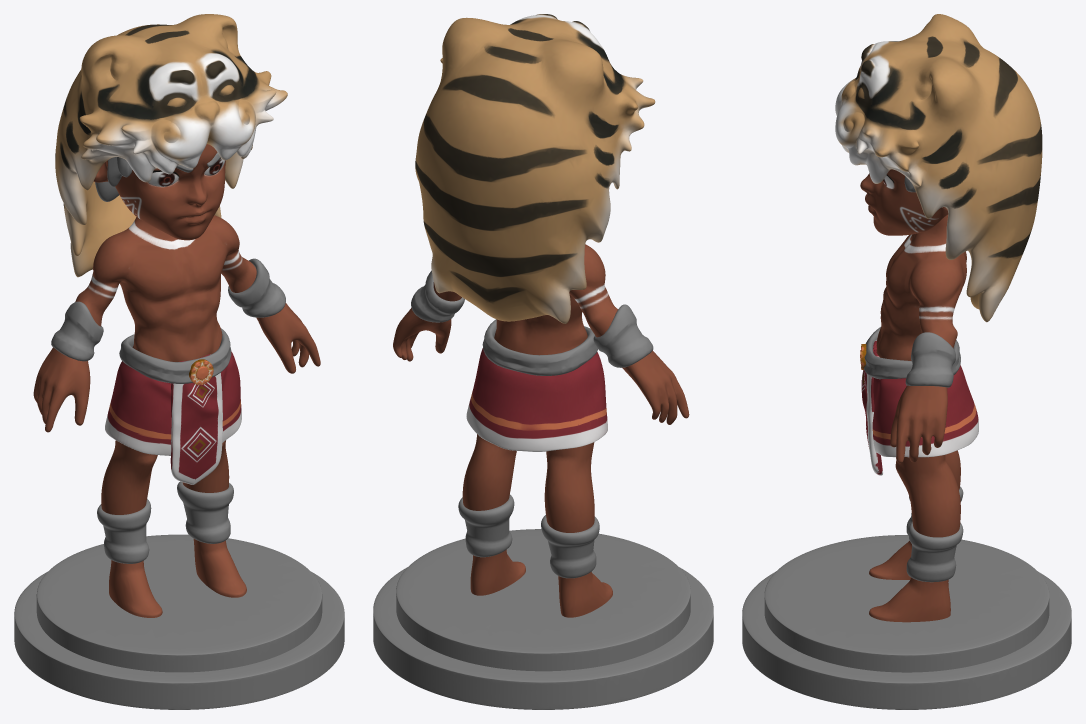
3 renders of one model, left to right at view 1: azimuth 30°, elevation 25°; view 2: azimuth 150°, elevation 25°; view 3: azimuth 270°, elevation 25°, orthographic. The views are drawn at different scales.
Visible parts, largest first — view 1: PM3D_Cylinder3D2, PM3D_Sphere3D1, xe, An2, tuong3, xe1, xe1_2, xe1_1, PM3D_Ring3D2_2, An3_2; view 2: PM3D_Sphere3D1, PM3D_Cylinder3D2, xe, tuong3, xe1_2, xe1_1, PM3D_Ring3D2_2; view 3: PM3D_Cylinder3D2, PM3D_Sphere3D1, xe, tuong3, An2, xe1_2, xe1_1, PM3D_Ring3D2_2, xe1.
Part boxes in pixels (left/top/right/bottom): PM3D_Cylinder3D2: left=14, top=534, right=344, bottom=709; PM3D_Sphere3D1: left=55, top=14, right=287, bottom=277; xe: left=33, top=215, right=320, bottom=617; An2: left=93, top=144, right=225, bottom=240; tuong3: left=105, top=351, right=241, bottom=455; xe1: left=170, top=354, right=222, bottom=484; xe1_2: left=97, top=481, right=233, bottom=563; xe1_1: left=51, top=258, right=285, bottom=361; PM3D_Ring3D2_2: left=119, top=328, right=231, bottom=383; An3_2: left=95, top=157, right=132, bottom=201; PM3D_Sphere3D1: left=415, top=14, right=655, bottom=323; PM3D_Cylinder3D2: left=373, top=529, right=713, bottom=709; xe: left=393, top=244, right=689, bottom=617; tuong3: left=466, top=348, right=607, bottom=451; xe1_2: left=458, top=494, right=599, bottom=578; xe1_1: left=411, top=270, right=653, bottom=367; PM3D_Ring3D2_2: left=482, top=319, right=597, bottom=375; PM3D_Cylinder3D2: left=742, top=535, right=1071, bottom=709; PM3D_Sphere3D1: left=835, top=14, right=1042, bottom=322; xe: left=869, top=215, right=966, bottom=622; tuong3: left=872, top=365, right=978, bottom=457; An2: left=860, top=169, right=948, bottom=235; xe1_2: left=906, top=486, right=963, bottom=582; xe1_1: left=905, top=332, right=955, bottom=387; PM3D_Ring3D2_2: left=864, top=327, right=960, bottom=379; xe1: left=861, top=340, right=882, bottom=475.
Size of the model in its own units: 1.07 by 2.14 by 1.07.
